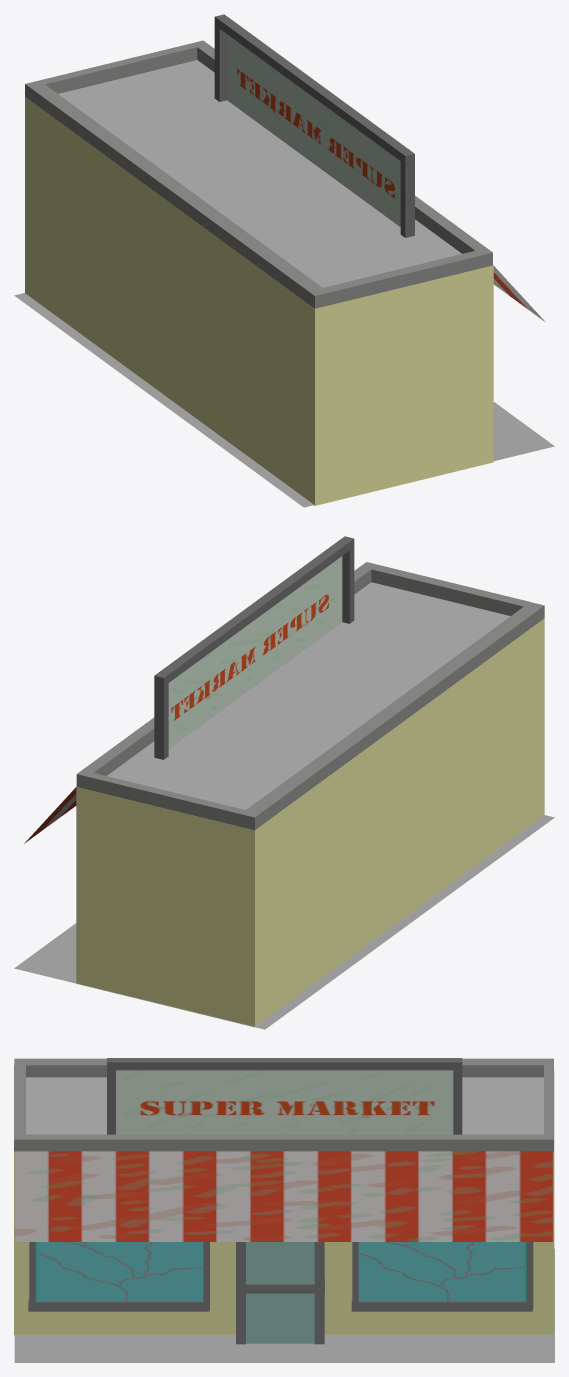
Rendered from Supermarket.fbx.
The picture shows the model from 3 angles, top to bottom: view 1: azimuth 30°, elevation 25°; view 2: azimuth 150°, elevation 25°; view 3: azimuth 270°, elevation 25°; orthographic projection. The views are drawn at different scales.
Visible parts, largest first — view 1: pasted__polySurface75; view 2: pasted__polySurface75; view 3: pasted__polySurface75.
Part boxes in pixels (x1,y1,x2,y2): pasted__polySurface75: [14, 14, 554, 507]; pasted__polySurface75: [14, 536, 554, 1029]; pasted__polySurface75: [14, 1058, 554, 1362].
Bounding box in the file's own units: 4 × 4.29 × 8.01.
